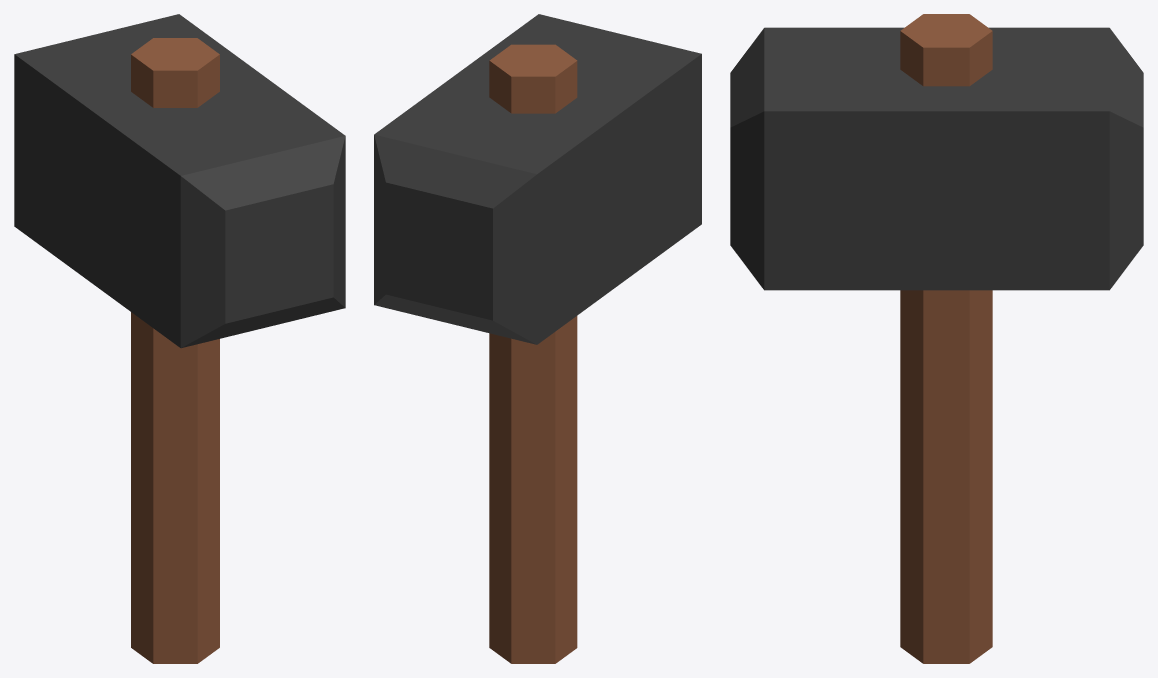
The model's file is HammerLowPoly.fbx.
The picture shows the model from 3 angles, left to right: view 1: azimuth 30°, elevation 25°; view 2: azimuth 150°, elevation 25°; view 3: azimuth 270°, elevation 25°; orthographic projection. The views are drawn at different scales.
Parts seen in each view (by area): view 1: Cube, Cylinder; view 2: Cube, Cylinder; view 3: Cube, Cylinder.
Boxes of the visible parts, x1,y1,x2,y2 form: Cube: (14,14,345,348); Cylinder: (131,38,219,663); Cube: (374,14,701,344); Cylinder: (489,44,577,663); Cube: (730,27,1143,290); Cylinder: (900,14,992,663).
Size of the model in its own units: 34.69 by 119 by 72.59.
